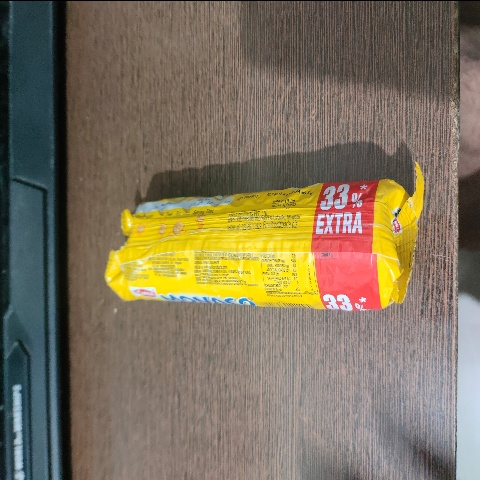monaco: (92, 158, 417, 362)
